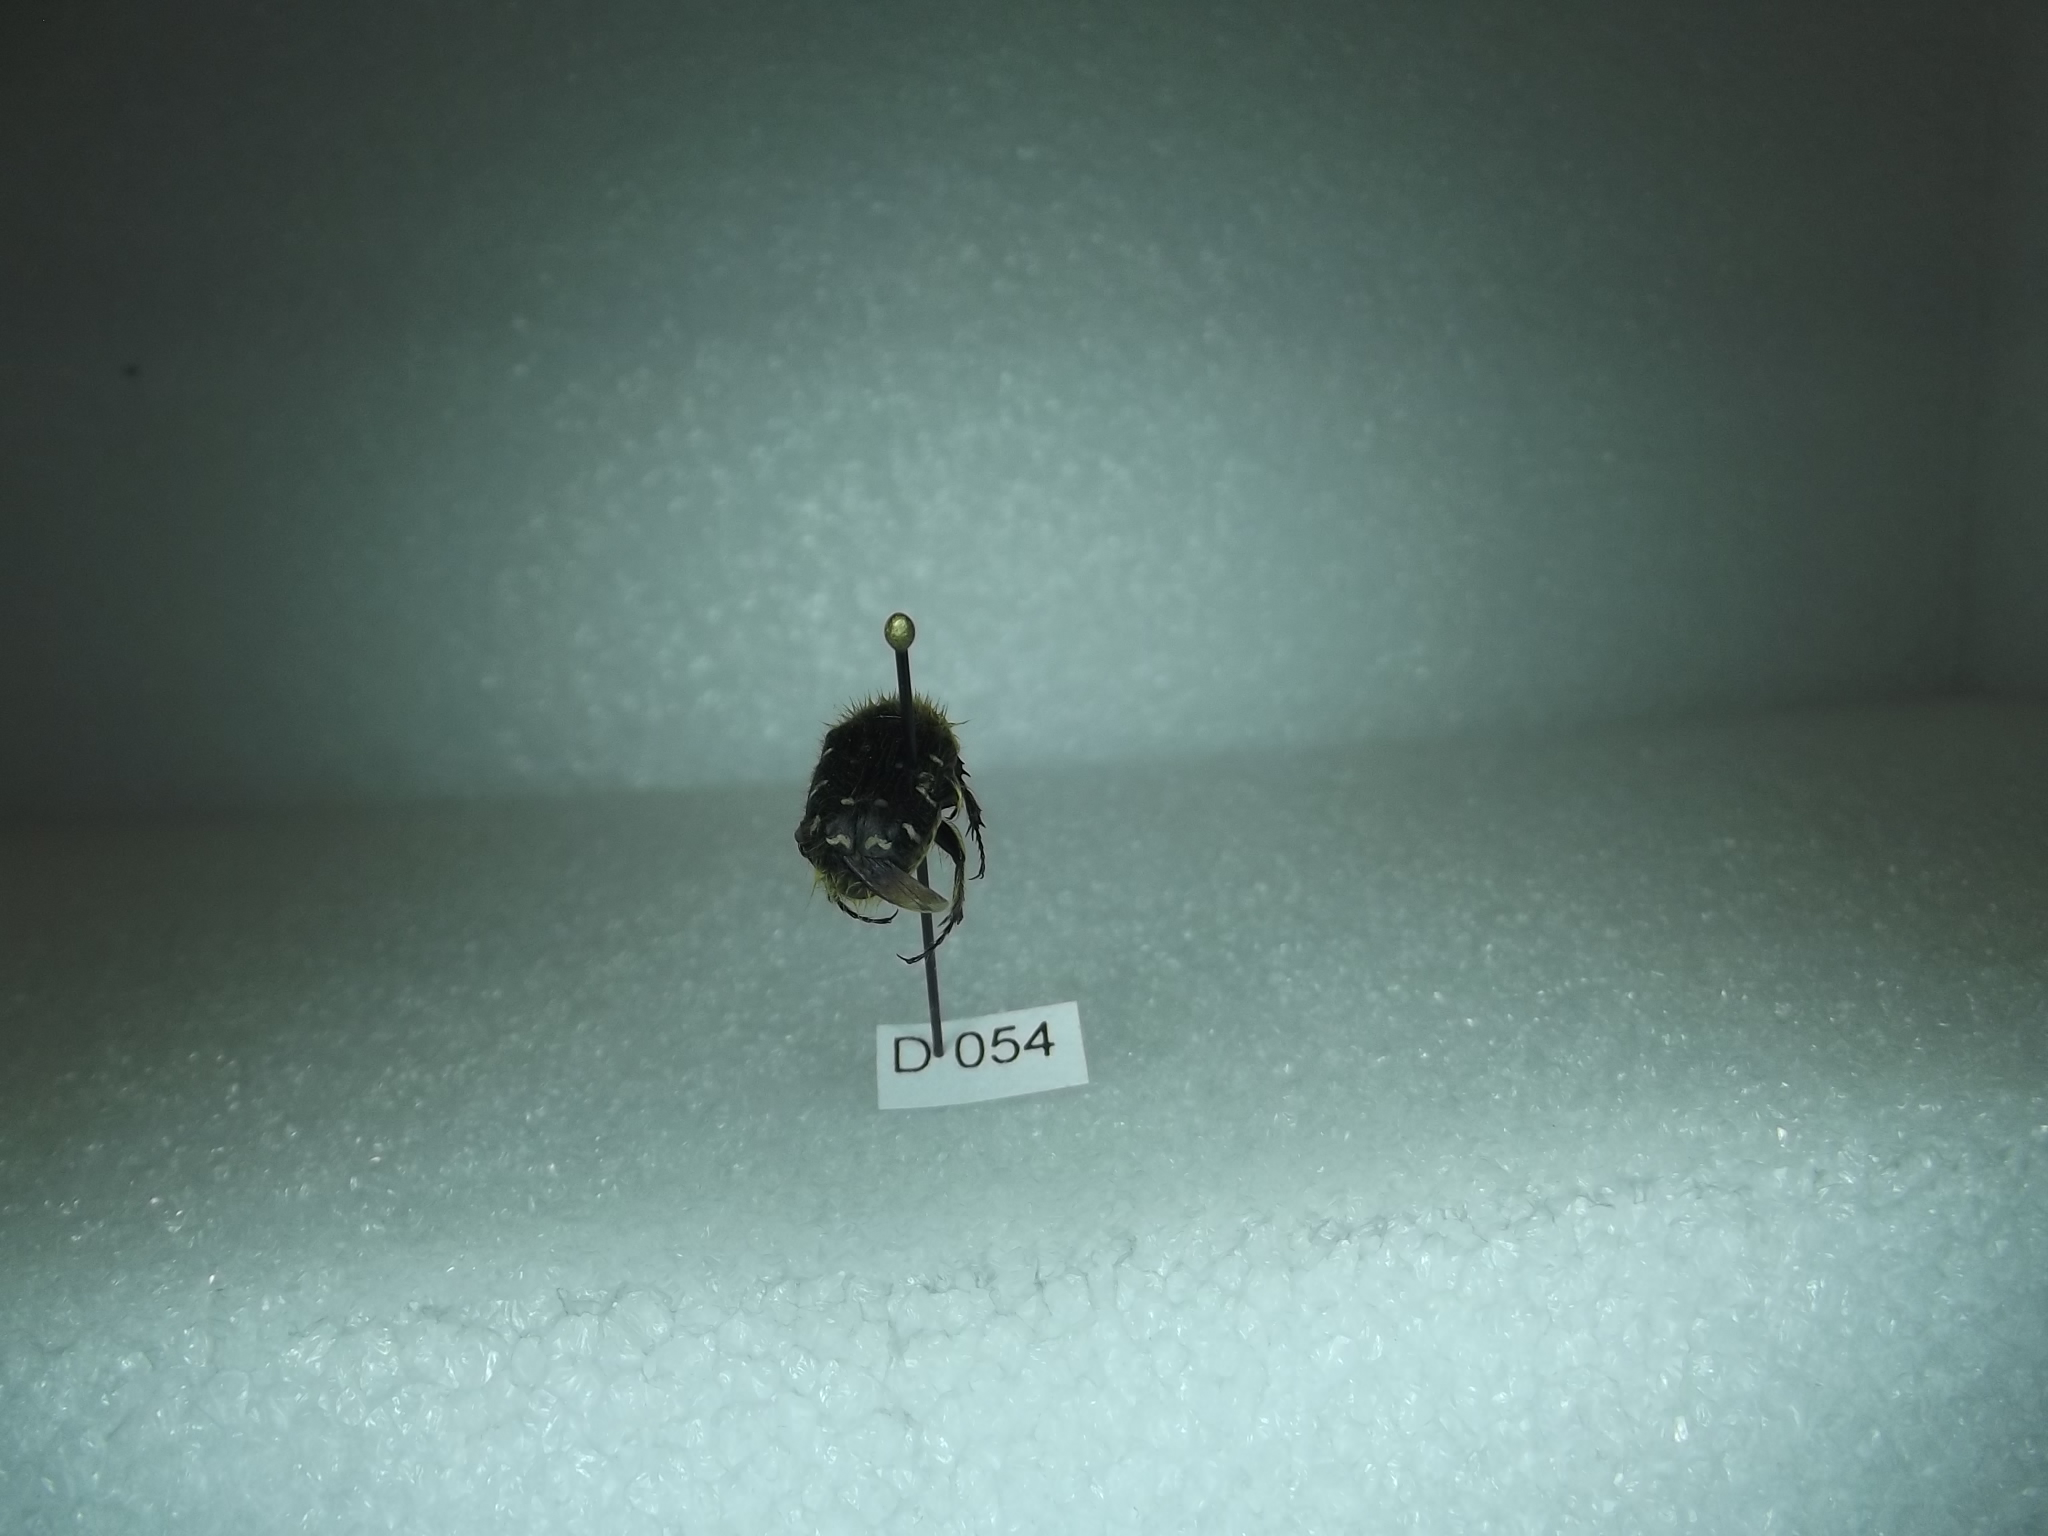Tropinota_hirta: (785, 670, 1013, 958)
